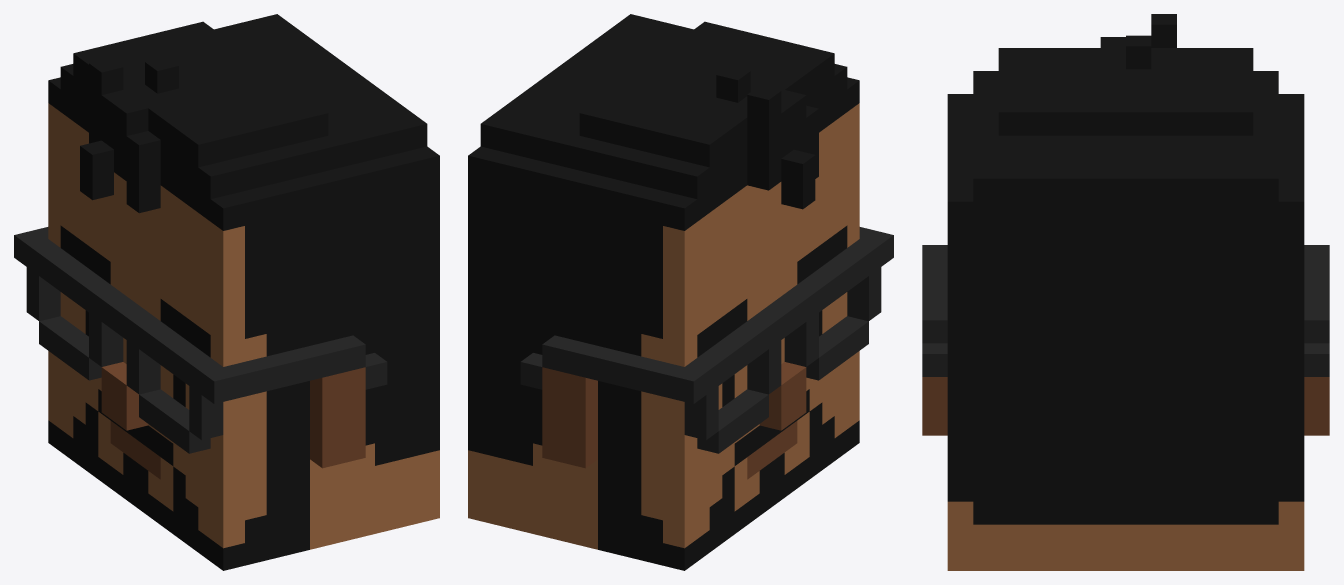
The model's file is Voxel Universe-16-Face.obj.
3 renders of one model, left to right at view 1: azimuth 30°, elevation 25°; view 2: azimuth 150°, elevation 25°; view 3: azimuth 270°, elevation 25°, orthographic.
Parts seen in each view (by area): view 1: Face; view 2: Face; view 3: Face.
Part boxes in pixels (x1,y1,x2,y2): Face: (14, 14, 439, 570); Face: (468, 14, 893, 570); Face: (922, 14, 1329, 570).
Size of the model in its own units: 1.2 by 1.9 by 1.6.
Materials: 1 (1 with a texture image).
